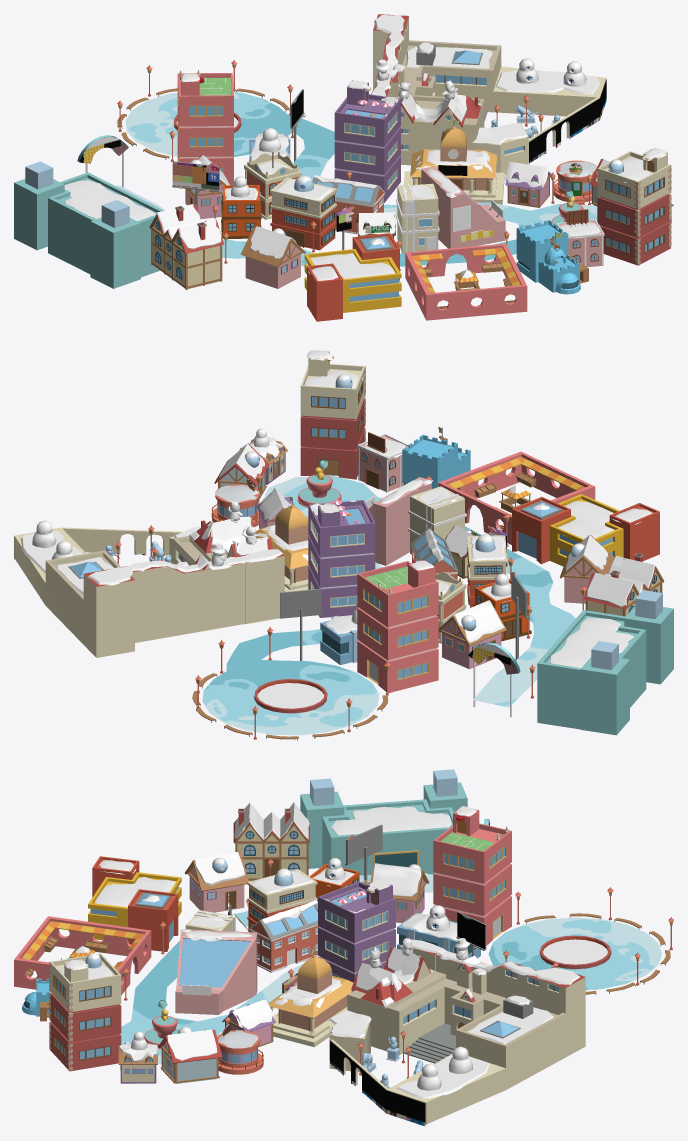
The model's file is NeighBorhood_PenguPlaza_02.fbx.
The picture shows the model from 3 angles, top to bottom: view 1: azimuth 30°, elevation 25°; view 2: azimuth 150°, elevation 25°; view 3: azimuth 270°, elevation 25°; orthographic projection. The views are drawn at different scales.
Parts seen in each view (by area): view 1: pCube201, pCube153, pCylinder3, pCube202, pCube150, pCube61, polySurface218, pCube144, polySurface209, pCube60, pCube325, pCube85 (+23 smaller); view 2: pCube201, pCylinder3, pCube153, pCube60, pCube202, pCube61, pCube144, pCube150, polySurface218, polySurface209, polySurface213, polySurface212 (+25 smaller); view 3: pCube201, pCylinder3, pCube153, pCube60, pCube202, polySurface218, pCube55, pCube61, pCube150, pCube144, polySurface209, polySurface213 (+23 smaller).
Boxes of the visible parts, x1,y1,x2,y2 form: pCube201: [373, 14, 606, 174]; pCube153: [14, 161, 163, 288]; pCylinder3: [116, 92, 597, 266]; pCube202: [597, 148, 671, 265]; pCube150: [405, 243, 527, 320]; pCube61: [334, 80, 400, 202]; polySurface218: [371, 14, 600, 144]; pCube144: [304, 233, 401, 321]; polySurface209: [308, 148, 666, 280]; pCube60: [177, 73, 233, 185]; pCube325: [149, 204, 223, 289]; pCube85: [403, 126, 504, 204]; pCube201: [14, 520, 284, 657]; pCylinder3: [202, 475, 575, 735]; pCube153: [537, 590, 673, 735]; pCube60: [357, 560, 438, 692]; pCube202: [300, 350, 365, 479]; pCube61: [308, 500, 375, 617]; pCube144: [512, 494, 659, 566]; pCube150: [438, 451, 595, 544]; polySurface218: [21, 516, 282, 594]; polySurface209: [257, 350, 652, 560]; polySurface213: [325, 560, 633, 667]; polySurface212: [412, 488, 658, 607]; pCube201: [329, 939, 585, 1124]; pCylinder3: [120, 874, 662, 1064]; pCube153: [300, 769, 467, 875]; pCube60: [433, 809, 511, 945]; pCube202: [49, 953, 121, 1071]; polySurface218: [328, 939, 579, 1098]; pCube55: [175, 929, 257, 1014]; pCube61: [318, 881, 395, 982]; pCube150: [14, 916, 151, 994]; pCube144: [88, 856, 181, 951]; polySurface209: [61, 860, 341, 1029]; polySurface213: [331, 806, 476, 940].
Size of the model in its own units: 6755 by 1446 by 6369.
